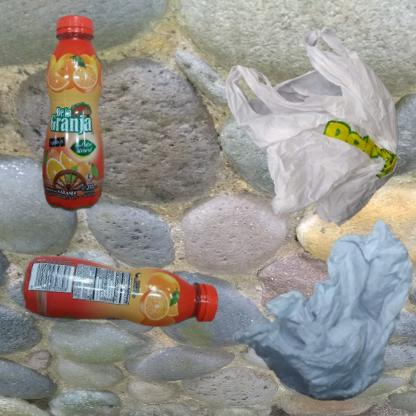bolsa: (213, 10, 416, 278)
botella: (10, 213, 281, 416), (10, 10, 164, 252)
papel: (213, 213, 416, 416)
